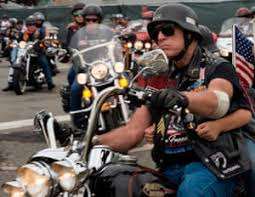helmet: (150, 3, 209, 55), (79, 3, 103, 28), (26, 10, 43, 27)
